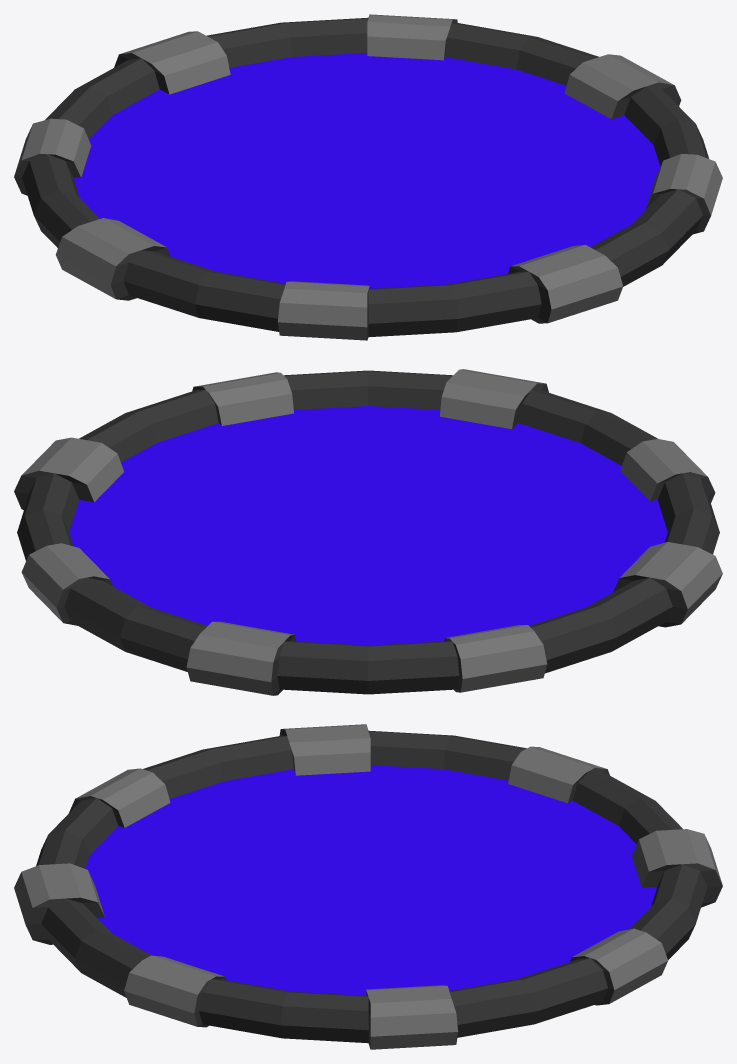
The model's file is checkpoint.fbx.
The picture shows the model from 3 angles, top to bottom: view 1: azimuth 30°, elevation 25°; view 2: azimuth 150°, elevation 25°; view 3: azimuth 270°, elevation 25°; orthographic projection. The views are drawn at different scales.
Visible parts, largest first — view 1: Torus; view 2: Torus; view 3: Torus.
Part boxes in pixels (x1,y1,x2,y2): Torus: (14,14,722,340); Torus: (14,369,722,695); Torus: (14,724,722,1049).
Size of the model in its own units: 226 by 16 by 226.
